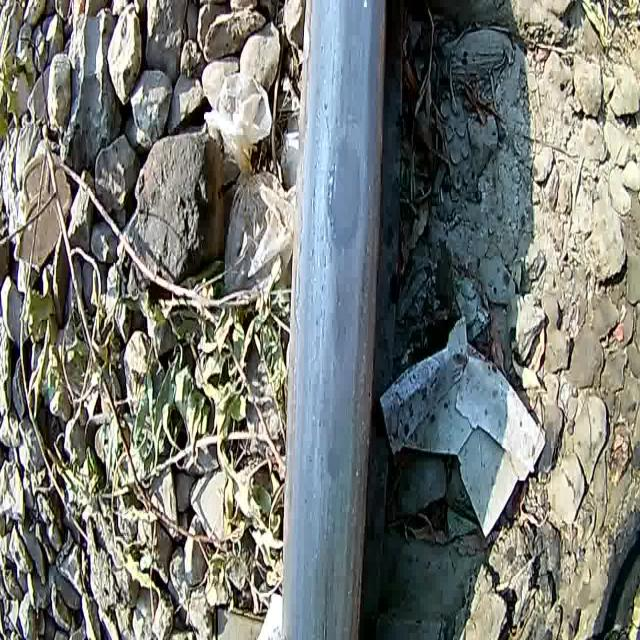Squats: (264, 0, 405, 640)
